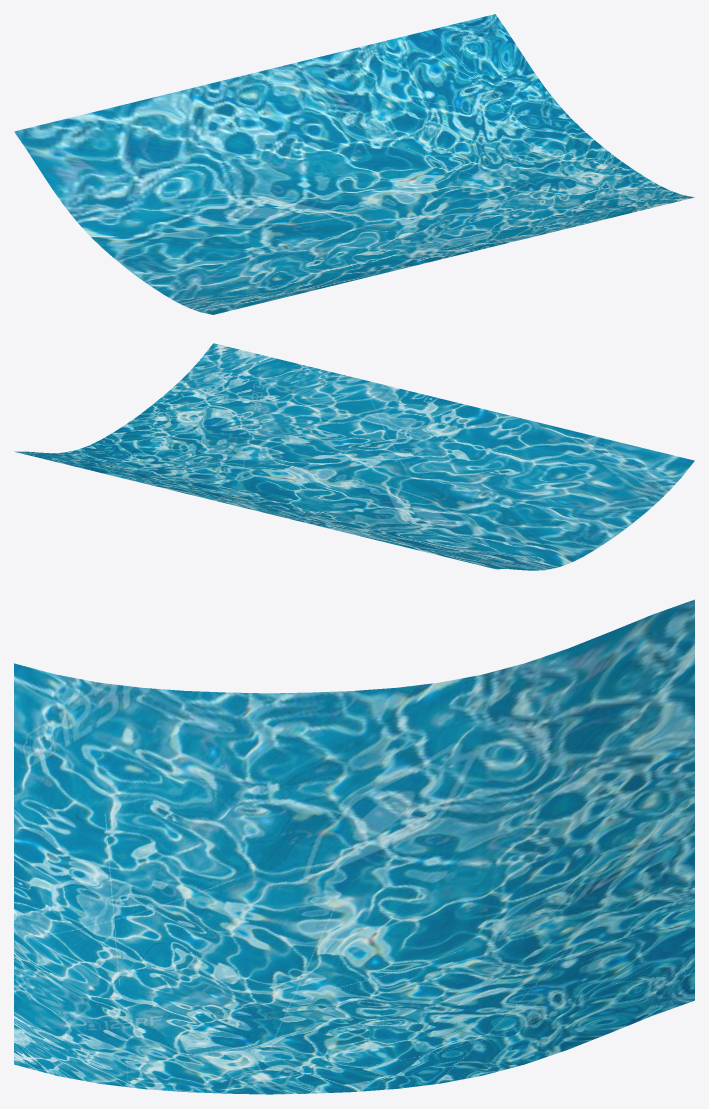
The model's file is Olas5.obj.
3 renders of one model, top to bottom at view 1: azimuth 30°, elevation 25°; view 2: azimuth 150°, elevation 25°; view 3: azimuth 270°, elevation 25°, orthographic. The views are drawn at different scales.
Parts seen in each view (by area): view 1: Plane; view 2: Plane; view 3: Plane.
Boxes of the visible parts, <box> form: Plane: <box>14,14,694,314</box>; Plane: <box>14,343,694,570</box>; Plane: <box>14,599,694,1094</box>.
Bounding box in the file's own units: 13.82 × 1.51 × 9.91.
